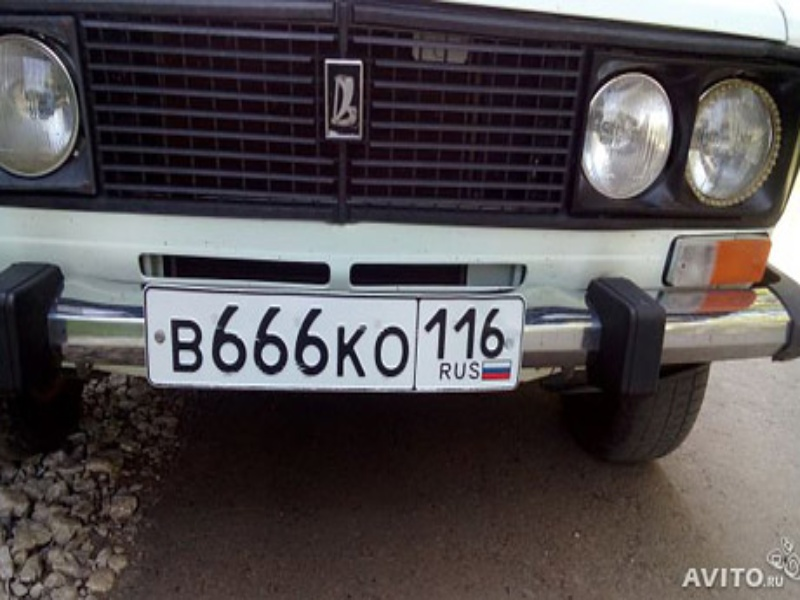car: (1, 1, 800, 459)
plate: (145, 287, 524, 391)
